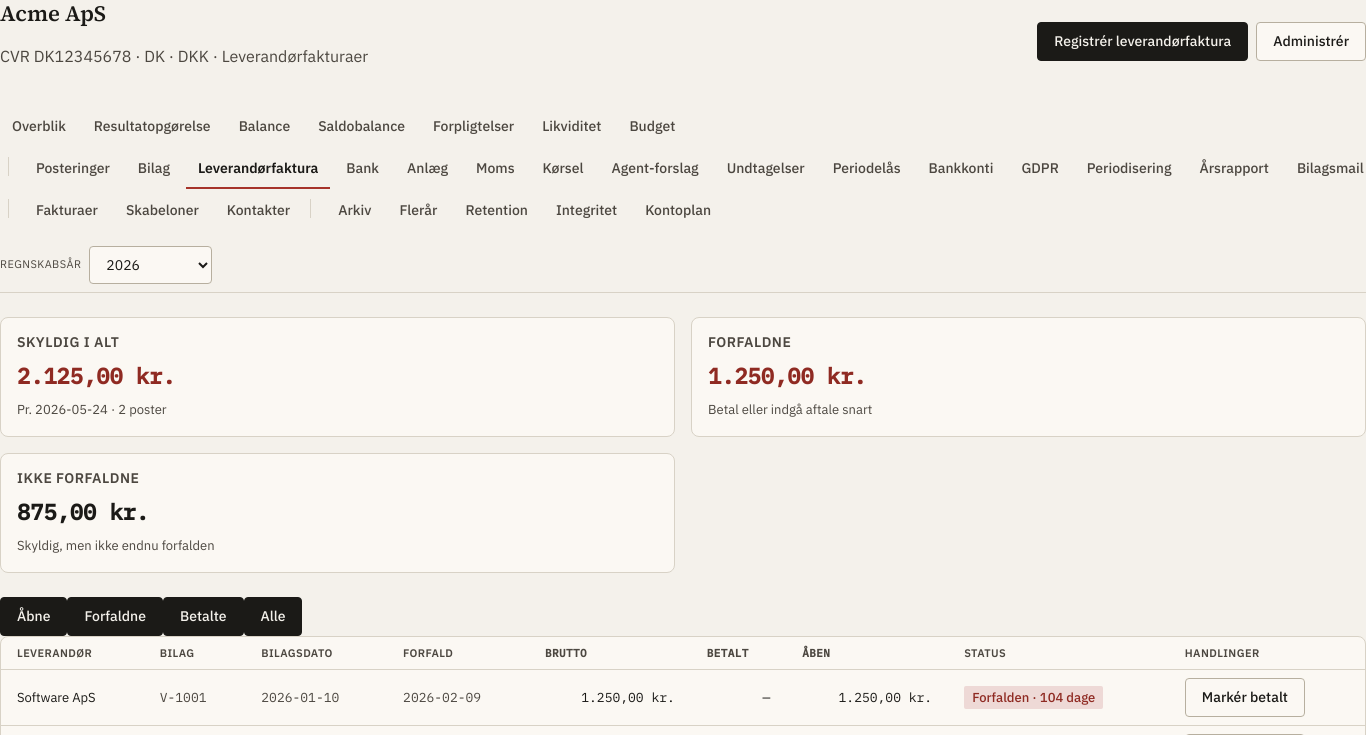
it: PayablesView — Leverandørfaktura-arbejdsbordet › the per-row Markér betalt action opens the pay confirm dialog
What coordinates should you click on to do the following:
click the button "Markér betalt" in the row of "Software ApS"
I would click on:
 (1245, 698)
Its box is [1185, 678, 1305, 717].
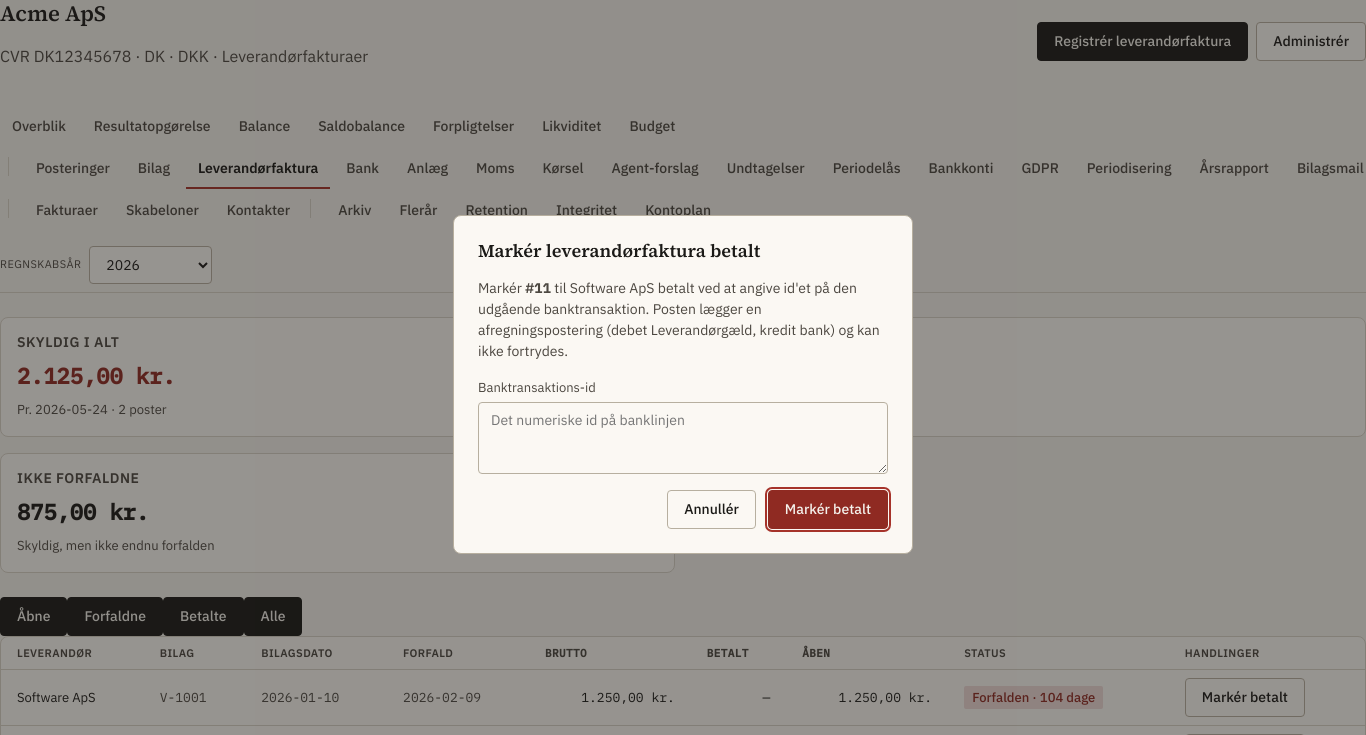
Result: the dialog "Markér leverandørfaktura betalt" is shown at [453, 214, 913, 554]
